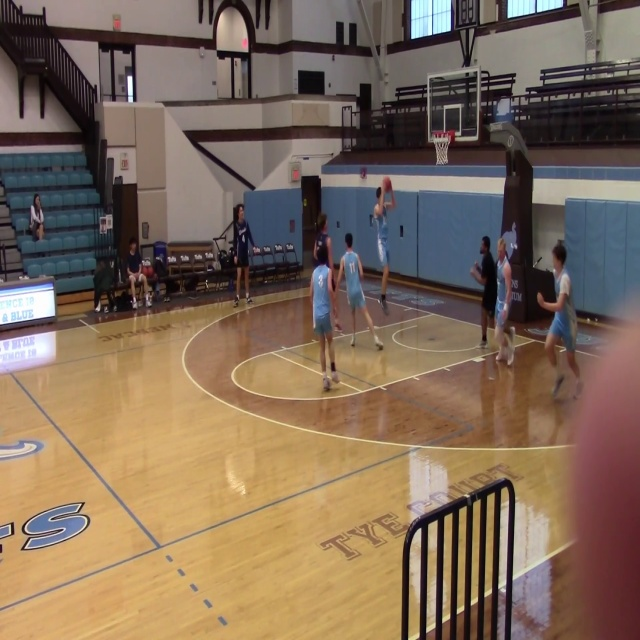Basketball: (382, 176, 391, 192), (374, 204, 383, 218), (142, 266, 153, 277)
